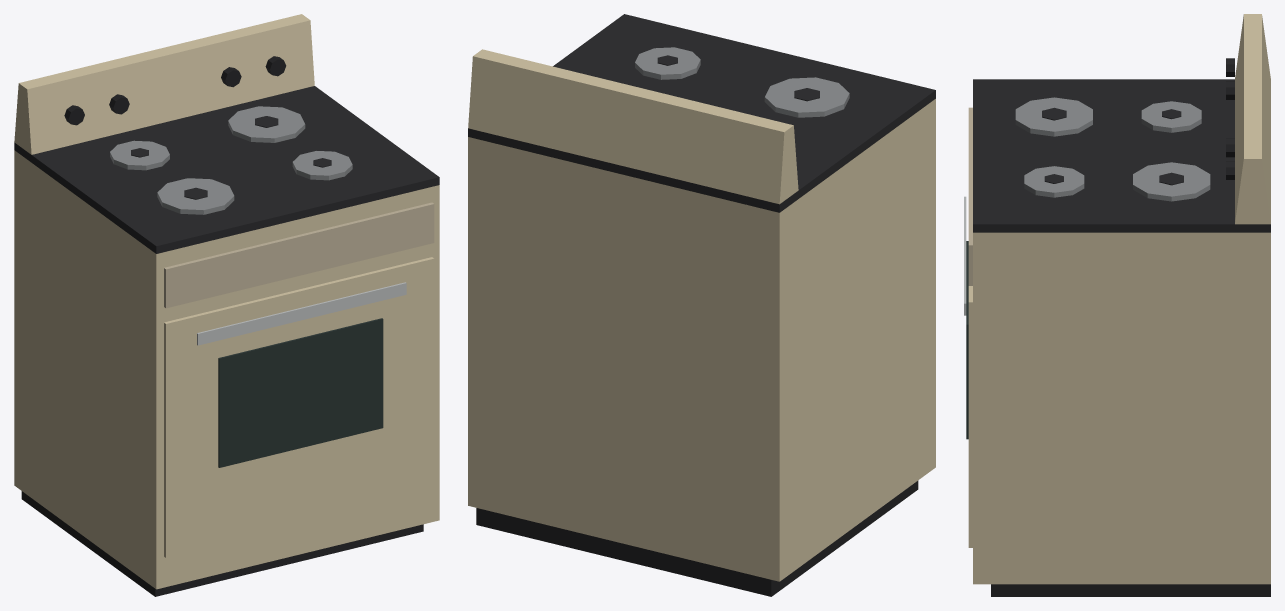
Rendered from stove.glb.
3 renders of one model, left to right at view 1: azimuth 30°, elevation 25°; view 2: azimuth 150°, elevation 25°; view 3: azimuth 270°, elevation 25°, orthographic. The views are drawn at different scales.
Visible parts, largest first — view 1: stove; view 2: stove; view 3: stove.
Part boxes in pixels (bbox=[...]): stove: bbox=[14, 14, 439, 596]; stove: bbox=[468, 14, 935, 596]; stove: bbox=[964, 14, 1270, 596].
Bounding box in the file's own units: 0.76 × 1.08 × 0.68.
